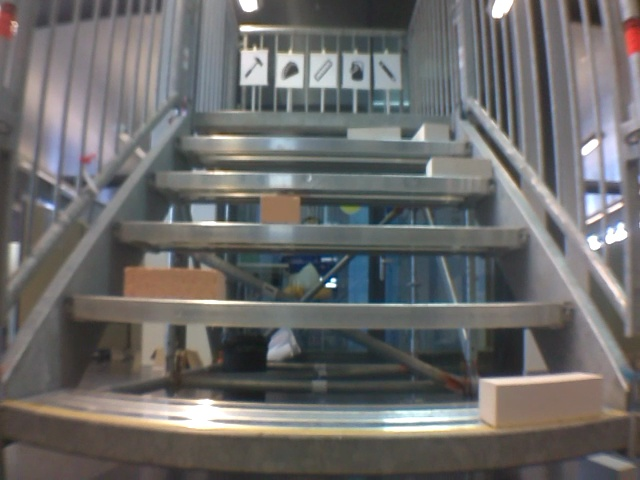brick: (479, 373, 604, 429), (124, 269, 226, 300), (427, 158, 490, 178), (261, 196, 299, 223), (412, 124, 449, 141), (347, 128, 400, 139)
bucket: (347, 59, 366, 85)
edge: (2, 406, 627, 471), (68, 298, 573, 327), (115, 221, 533, 246), (147, 172, 494, 192), (175, 136, 473, 154), (193, 112, 452, 126)
hammer: (240, 55, 265, 81)
pencil: (376, 57, 399, 83)
ruler: (310, 58, 335, 83)
stairs: (1, 2, 640, 476)
steps: (2, 112, 635, 471)
taco: (277, 58, 300, 82)
